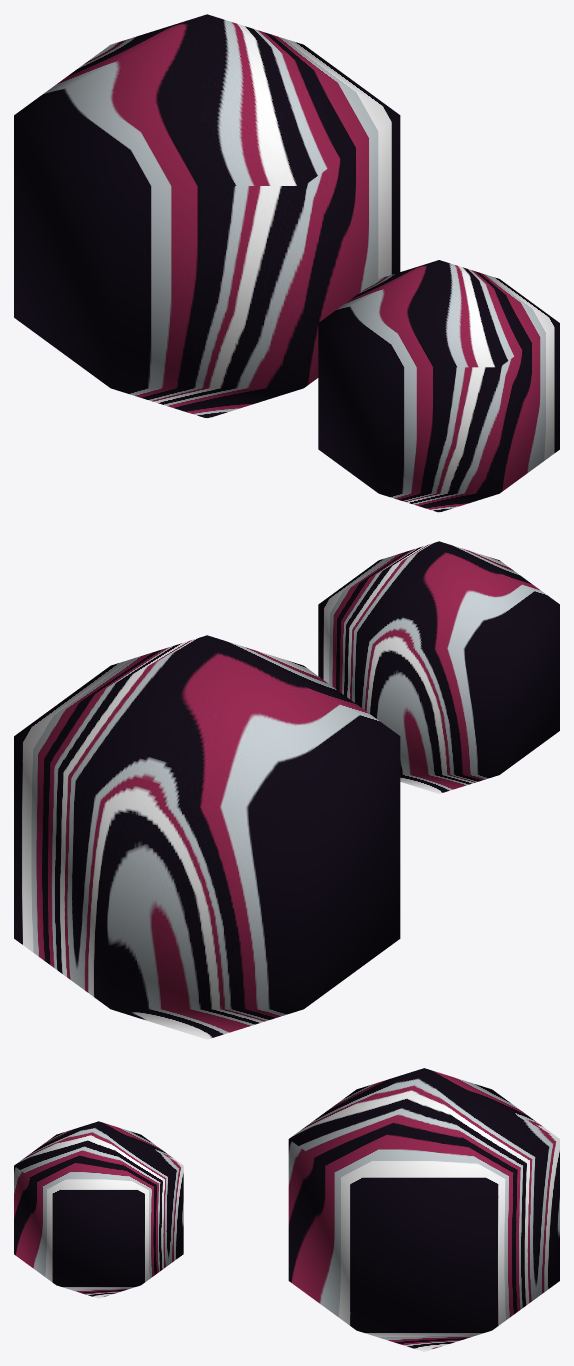
Rendered from octopusmarble_selection.DAE.
3 renders of one model, top to bottom at view 1: azimuth 30°, elevation 25°; view 2: azimuth 150°, elevation 25°; view 3: azimuth 270°, elevation 25°, orthographic. The views are drawn at different scales.
Visible parts, largest first — view 1: Shooter_C, Standard_C; view 2: Shooter_C, Standard_C; view 3: Shooter_C, Standard_C.
Part boxes in pixels (<box>): Shooter_C: <box>14,14,400,418</box>; Standard_C: <box>318,260,559,512</box>; Shooter_C: <box>14,635,400,1039</box>; Standard_C: <box>318,541,559,793</box>; Shooter_C: <box>288,1068,559,1351</box>; Standard_C: <box>14,1121,183,1298</box>.
Bounding box in the file's own units: 0.0381 × 0.0886 × 0.0508.
Materials: 1 (1 with a texture image).
